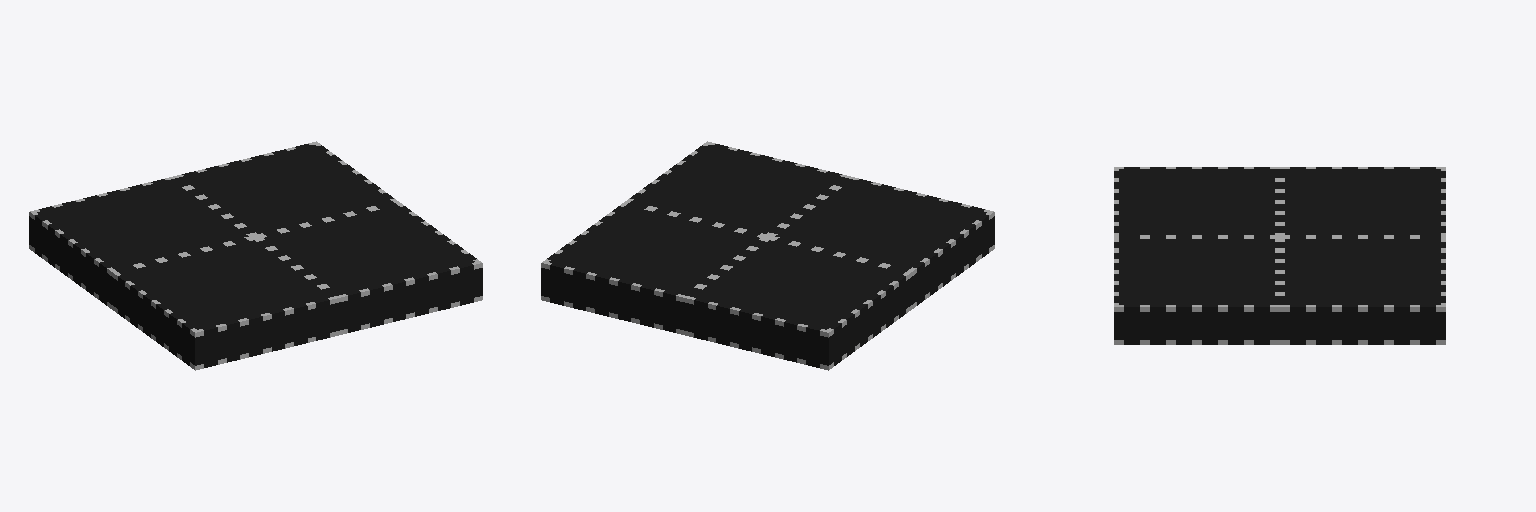
3 views of the same model, side by side, from view 1: azimuth 30°, elevation 25°; view 2: azimuth 150°, elevation 25°; view 3: azimuth 270°, elevation 25° (orthographic).
Parts seen in each view (by area): view 1: cuboid; view 2: cuboid; view 3: cuboid.
Boxes of the visible parts, box(x1,y1,x2,y2) form: cuboid: box(29, 141, 482, 370); cuboid: box(541, 141, 994, 370); cuboid: box(1114, 167, 1445, 344).
Size of the model in its own units: 4 by 0.5 by 4.
1 materials, 1 textured.